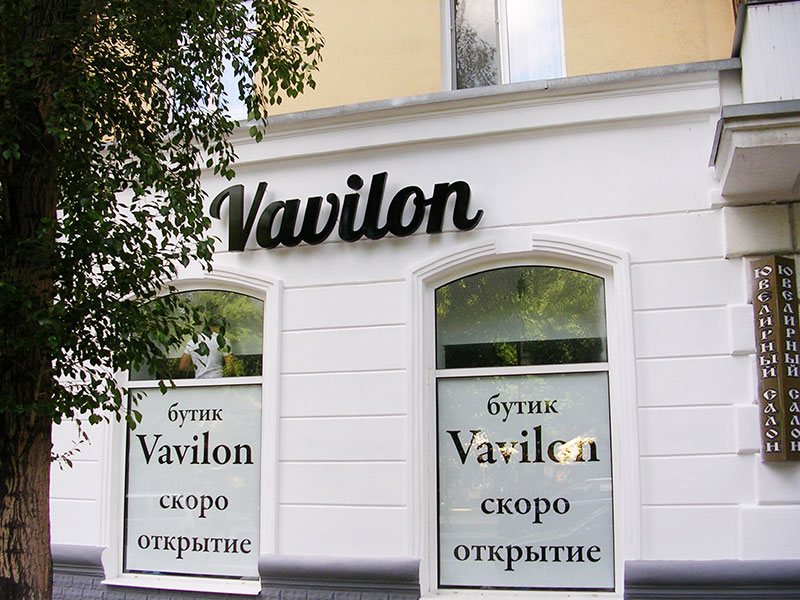signboard: (202, 167, 494, 257)
win_ad: (434, 376, 618, 590), (129, 385, 261, 573)
window: (433, 259, 608, 584), (122, 295, 260, 580)
